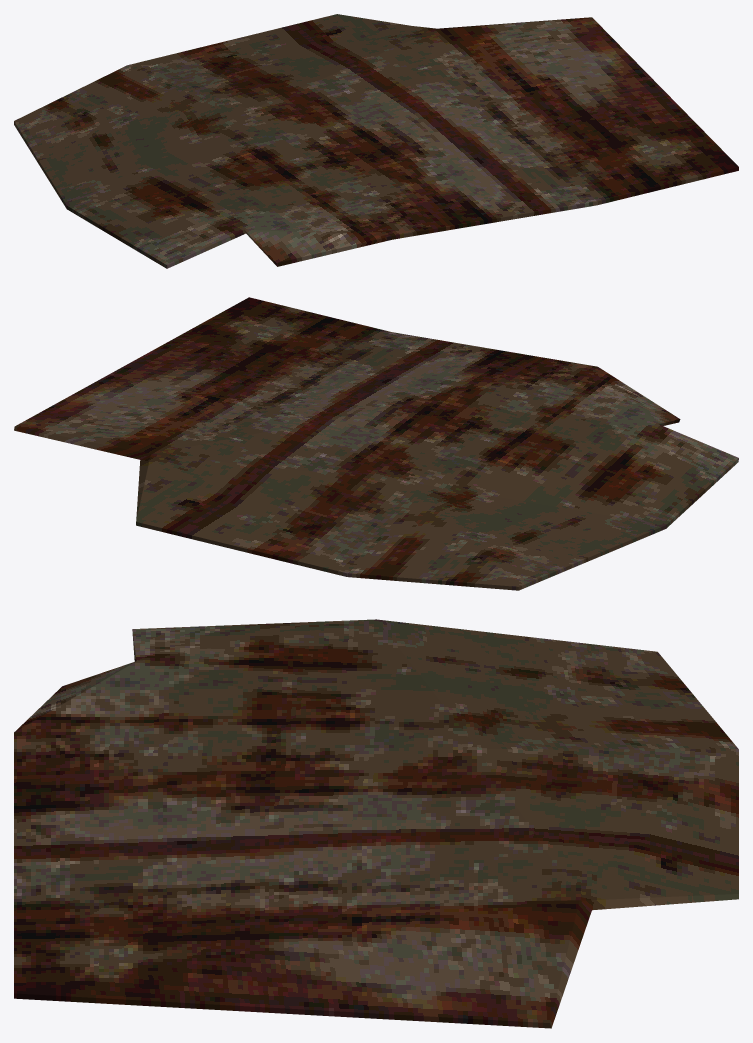
The model's file is sheet_metal_2.glb.
The picture shows the model from 3 angles, top to bottom: view 1: azimuth 30°, elevation 25°; view 2: azimuth 150°, elevation 25°; view 3: azimuth 270°, elevation 25°; orthographic projection. The views are drawn at different scales.
Visible parts, largest first — view 1: Sheet_Metal_2; view 2: Sheet_Metal_2; view 3: Sheet_Metal_2.
Boxes of the visible parts, x1,y1,x2,y2 form: Sheet_Metal_2: (14,14,738,268); Sheet_Metal_2: (14,297,738,590); Sheet_Metal_2: (14,619,738,1028).
Bounding box in the file's own units: 1.54 × 0.0483 × 1.17.
Materials: 1 (1 with a texture image).
